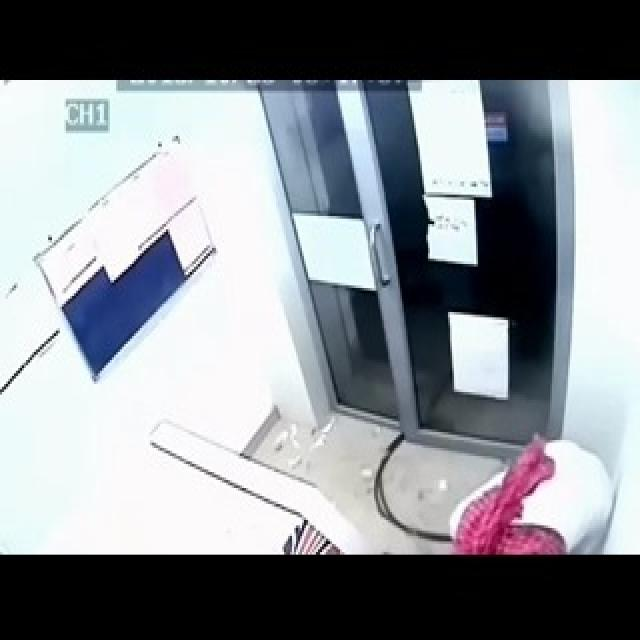thief: (430, 433, 618, 552)
